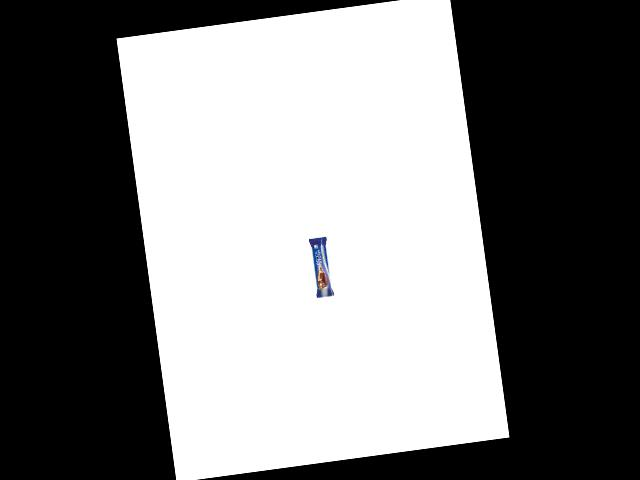chocolate: (302, 235, 336, 306)
